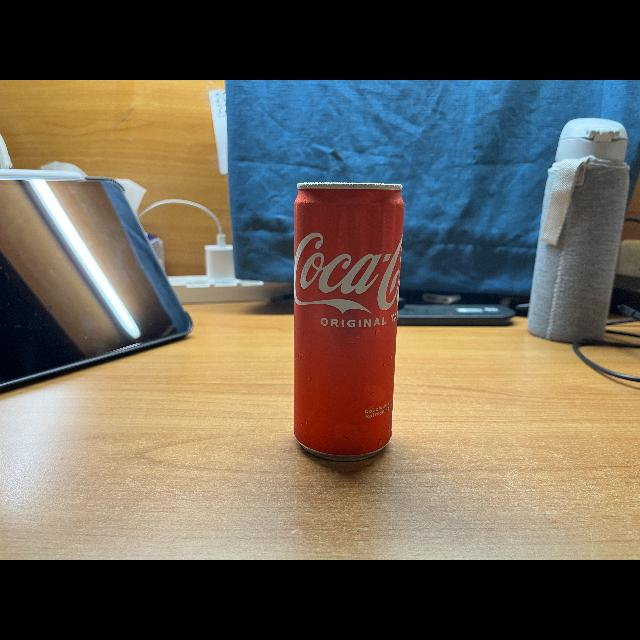can: (288, 178, 407, 460)
